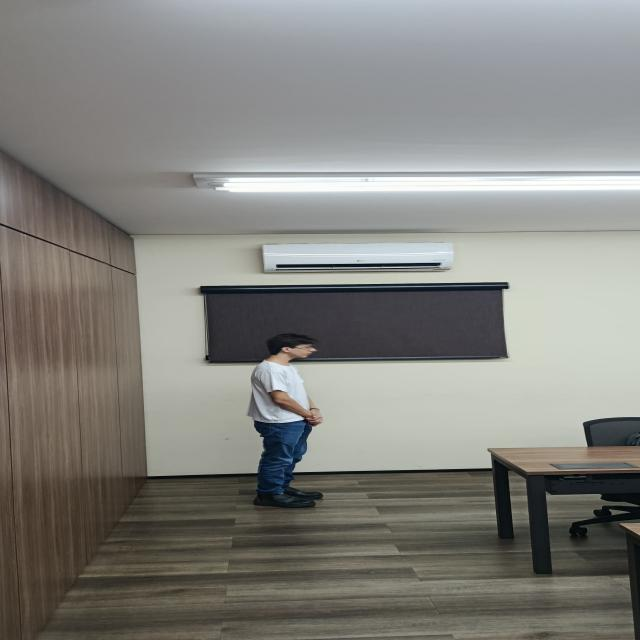sem_oculos: (290, 346, 312, 351)
